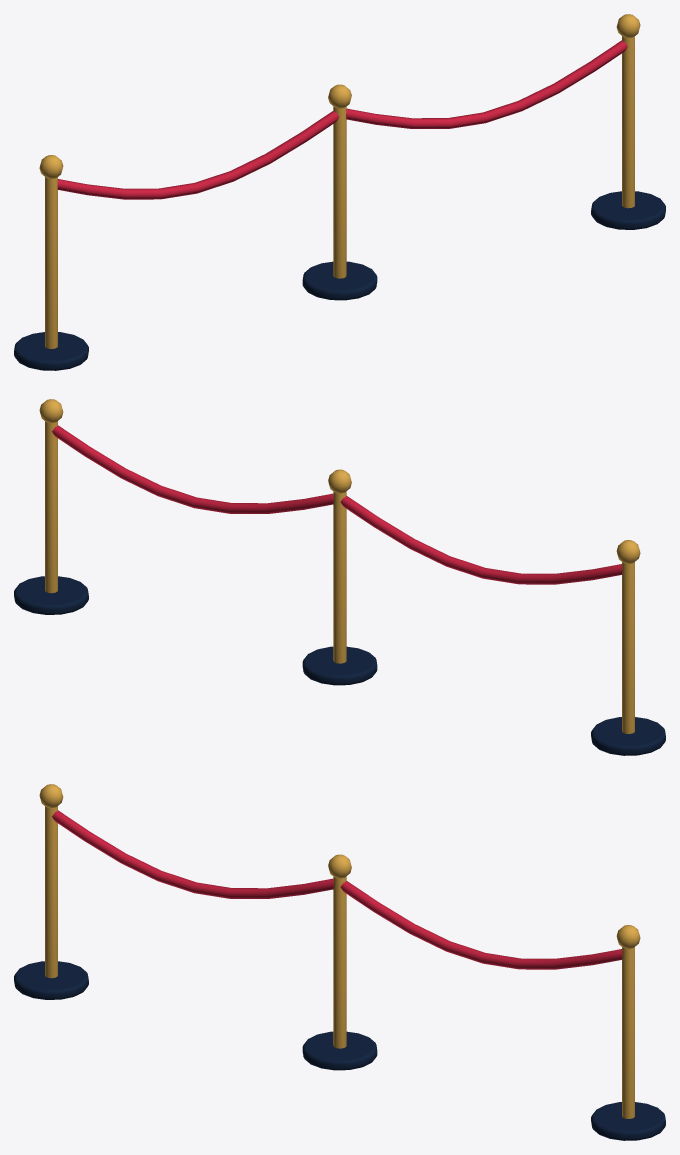
The model's file is aqua_rope_barrier.glb.
The picture shows the model from 3 angles, top to bottom: view 1: azimuth 30°, elevation 25°; view 2: azimuth 150°, elevation 25°; view 3: azimuth 330°, elevation 25°; orthographic projection.
Parts seen in each view (by area): view 1: RopeBarrier; view 2: RopeBarrier; view 3: RopeBarrier.
Part boxes in pixels (x1,y1,x2,y2): RopeBarrier: (14, 14, 665, 370); RopeBarrier: (14, 399, 665, 755); RopeBarrier: (14, 784, 665, 1140).
Size of the model in its own units: 3.34 by 0.995 by 0.34.
